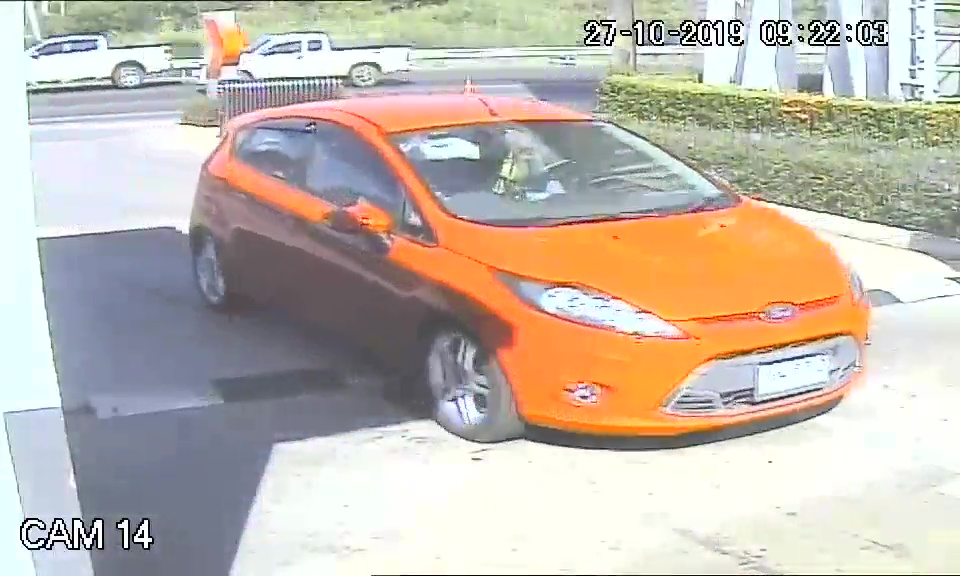sedan: (176, 85, 868, 450)
